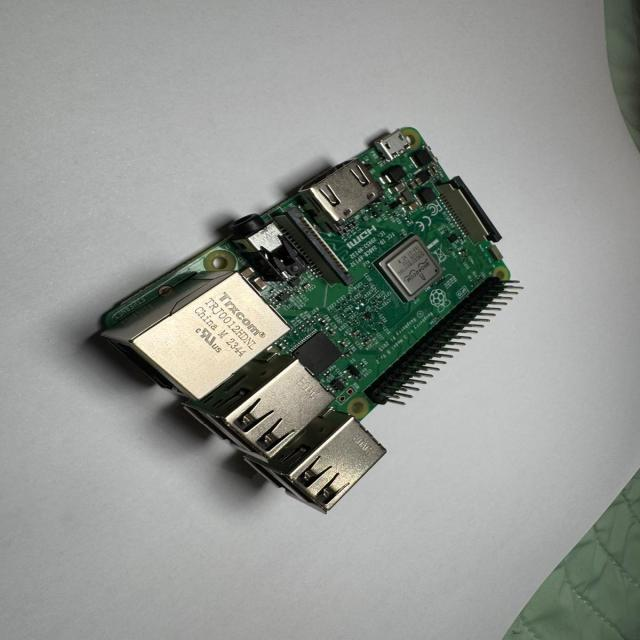CPU: (379, 235, 443, 304)
Ethernet: (118, 269, 270, 391)
GPIO: (357, 275, 533, 410)
HDMI: (294, 157, 384, 224)
RAM-3: (290, 330, 345, 381)
Raspberry: (90, 127, 519, 516)
